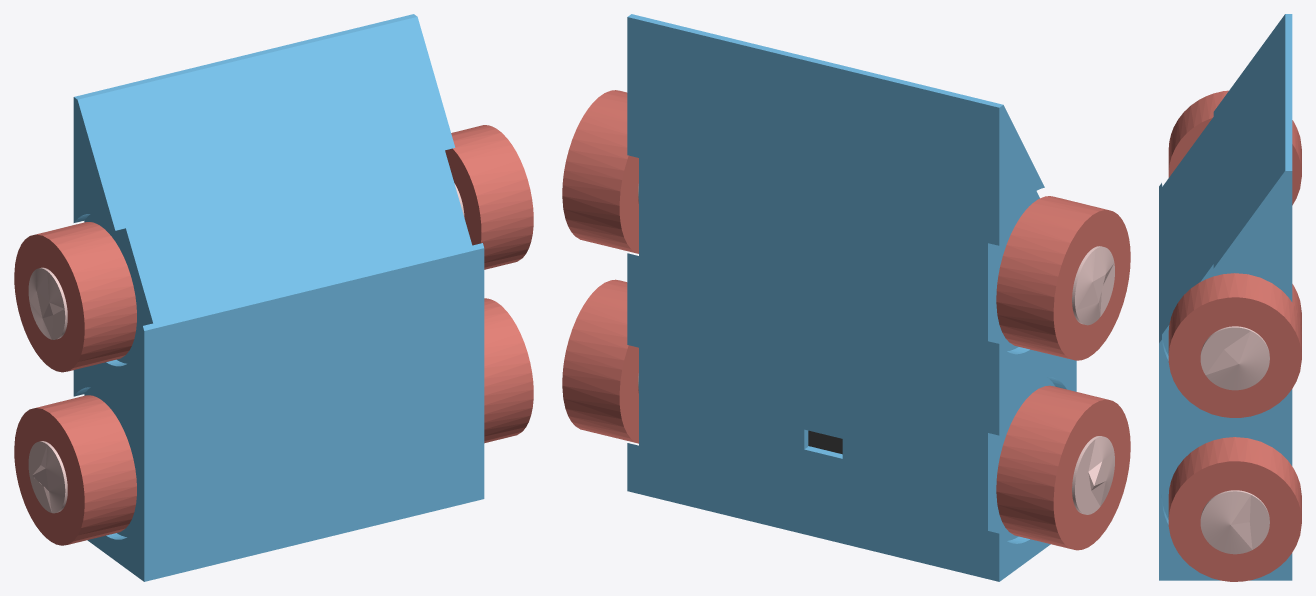
Rendered from look_what_you_ve_done_to_our_b.glb.
3 views of the same model, side by side, from view 1: azimuth 30°, elevation 25°; view 2: azimuth 150°, elevation 25°; view 3: azimuth 270°, elevation 25° (orthographic). The views are drawn at different scales.
Parts seen in each view (by area): view 1: chassis, wheel_r0, wheel_r1, wheel_l1, wheel_l0, dt_hub_wheel_r1, dt_hub_wheel_r0; view 2: chassis, wheel_r1, wheel_r0, wheel_l1, wheel_l0, dt_hub_wheel_r1, dt_hub_wheel_r0; view 3: chassis, wheel_l0, wheel_l1, dt_hub_wheel_l0, dt_hub_wheel_l1, wheel_r1, wheel_r0.
Part boxes in pixels (x1=…): chassis: x1=73, y1=14, x2=484, y2=581; wheel_r0: x1=14, y1=395, x2=136, y2=545; wheel_r1: x1=14, y1=222, x2=136, y2=372; wheel_l1: x1=445, y1=125, x2=533, y2=269; wheel_l0: x1=484, y1=298, x2=533, y2=443; dt_hub_wheel_r1: x1=28, y1=267, x2=67, y2=339; dt_hub_wheel_r0: x1=28, y1=441, x2=67, y2=513; chassis: x1=627, y1=14, x2=1076, y2=581; wheel_r1: x1=996, y1=196, x2=1130, y2=360; wheel_r0: x1=996, y1=385, x2=1130, y2=550; wheel_l1: x1=562, y1=90, x2=638, y2=253; wheel_l0: x1=562, y1=279, x2=638, y2=443; dt_hub_wheel_r1: x1=1072, y1=246, x2=1114, y2=325; dt_hub_wheel_r0: x1=1072, y1=436, x2=1114, y2=514; chassis: x1=1159, y1=14, x2=1292, y2=580; wheel_l0: x1=1168, y1=437, x2=1301, y2=581; wheel_l1: x1=1168, y1=273, x2=1301, y2=417; dt_hub_wheel_l0: x1=1200, y1=490, x2=1269, y2=554; dt_hub_wheel_l1: x1=1200, y1=326, x2=1269, y2=390; wheel_r1: x1=1168, y1=90, x2=1301, y2=205; wheel_r0: x1=1292, y1=284, x2=1301, y2=331.
Bounding box in the file's own units: 107 × 95 × 30.01.
